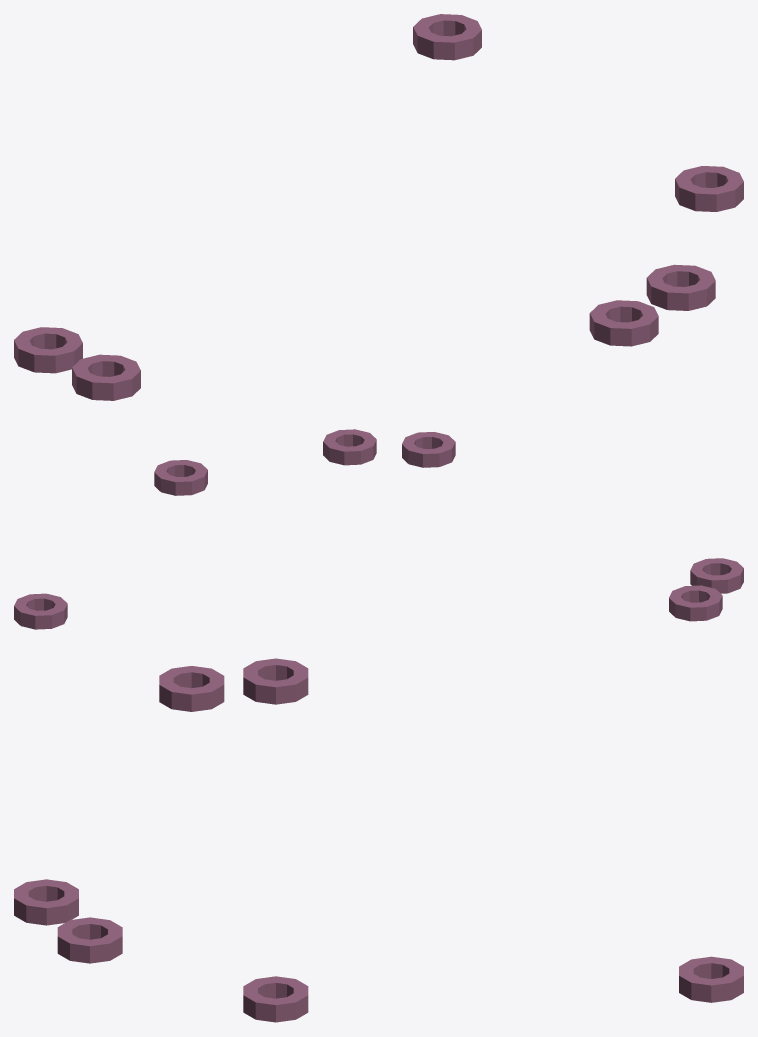
Rendered from beef.glb.
The picture shows the model from 3 angles, top to bottom: view 1: azimuth 30°, elevation 25°; view 2: azimuth 150°, elevation 25°; view 3: azimuth 270°, elevation 25°; orthographic projection. The views are drawn at different scales.
Visible parts, largest first — view 1: Olive_OliveMat_0.001, Olive_OliveMat_0.003, Olive_OliveMat_0.004, Olive_OliveMat_0.002, Olive_OliveMat_0.005, Olive; view 2: Olive_OliveMat_0.001, Olive_OliveMat_0.003, Olive_OliveMat_0.004, Olive_OliveMat_0.005, Olive, Olive_OliveMat_0.002; view 3: Olive, Olive_OliveMat_0.003, Olive_OliveMat_0.004, Olive_OliveMat_0.002, Olive_OliveMat_0.005, Olive_OliveMat_0.001.
Boxes of the visible parts, box(x1,y1,x2,y2) form: Olive_OliveMat_0.001: box(589, 300, 658, 346); Olive_OliveMat_0.003: box(646, 264, 715, 310); Olive_OliveMat_0.004: box(675, 166, 743, 211); Olive_OliveMat_0.002: box(72, 354, 140, 400); Olive_OliveMat_0.005: box(413, 14, 481, 60); Olive: box(14, 327, 82, 373); Olive_OliveMat_0.001: box(402, 432, 455, 467); Olive_OliveMat_0.003: box(323, 429, 376, 465); Olive_OliveMat_0.004: box(154, 460, 207, 495); Olive_OliveMat_0.005: box(14, 593, 67, 629); Olive: box(669, 585, 722, 621); Olive_OliveMat_0.002: box(690, 558, 743, 593); Olive: box(243, 658, 308, 704); Olive_OliveMat_0.003: box(57, 917, 122, 963); Olive_OliveMat_0.004: box(243, 976, 308, 1022); Olive_OliveMat_0.002: box(159, 666, 224, 711); Olive_OliveMat_0.005: box(679, 956, 743, 1002); Olive_OliveMat_0.001: box(14, 879, 78, 925).
Bounding box in the file's own units: 1.69 × 0.0394 × 1.5.
